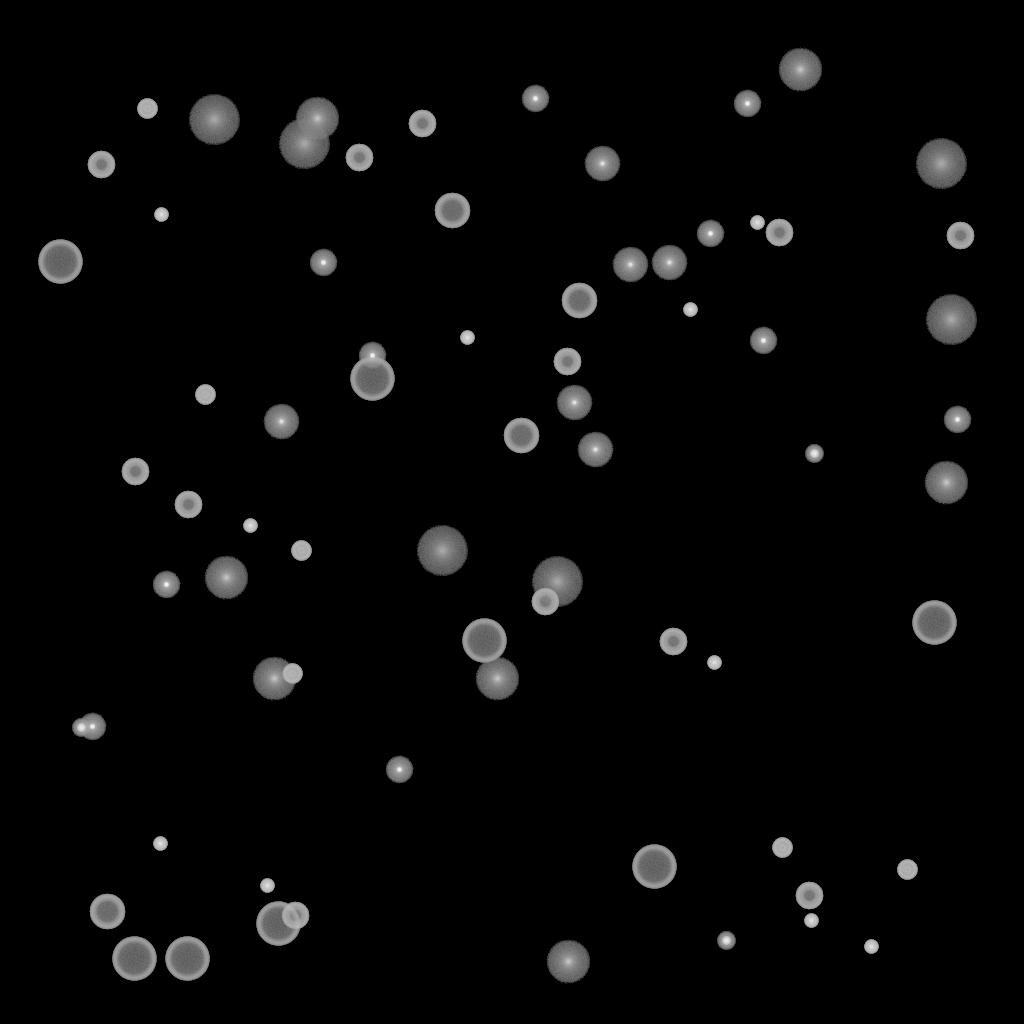depth:-10: (309, 249, 337, 277), (358, 342, 386, 370), (749, 327, 777, 355), (152, 571, 180, 599), (733, 90, 761, 118), (696, 220, 724, 248), (943, 406, 971, 434), (385, 756, 413, 784), (78, 713, 106, 741), (521, 85, 549, 113)
depth:-20: (805, 445, 823, 463), (72, 719, 90, 737), (717, 932, 735, 950)
depth:-30: (460, 331, 474, 345), (683, 303, 697, 317), (864, 940, 878, 954), (707, 656, 721, 670), (153, 837, 167, 851), (243, 519, 257, 533), (260, 879, 274, 893), (804, 914, 818, 928), (154, 208, 168, 222), (750, 216, 764, 230)
depth:-40: (772, 838, 792, 858), (291, 541, 311, 561), (195, 385, 215, 405), (897, 860, 917, 880), (137, 99, 157, 119), (282, 664, 302, 684)
depth:-50: (765, 219, 793, 247), (408, 110, 436, 138), (553, 348, 581, 376), (121, 458, 149, 486), (659, 628, 687, 656), (281, 902, 309, 930), (946, 222, 974, 250), (795, 882, 823, 910), (87, 151, 115, 179), (174, 491, 202, 519), (345, 144, 373, 172), (531, 588, 559, 616)
depth:-60: (434, 193, 470, 229), (89, 894, 125, 930), (561, 283, 597, 319), (503, 418, 539, 454)
depth:-70: (912, 601, 956, 645), (165, 937, 209, 981), (462, 619, 506, 663), (632, 845, 676, 889), (256, 902, 300, 946), (38, 240, 82, 284), (350, 357, 394, 401), (112, 937, 156, 981)
depth:0: (651, 245, 687, 281), (263, 404, 299, 440), (577, 432, 613, 468), (612, 247, 648, 283), (556, 385, 592, 421), (584, 146, 620, 182)
depth:10: (924, 461, 968, 505), (778, 48, 822, 92), (204, 556, 248, 600), (295, 97, 339, 141), (252, 657, 296, 701), (546, 940, 590, 984), (475, 657, 519, 701)
depth:20: (416, 526, 468, 576), (278, 119, 330, 169), (188, 95, 240, 145), (915, 139, 967, 189), (531, 557, 583, 607), (925, 295, 977, 345)
